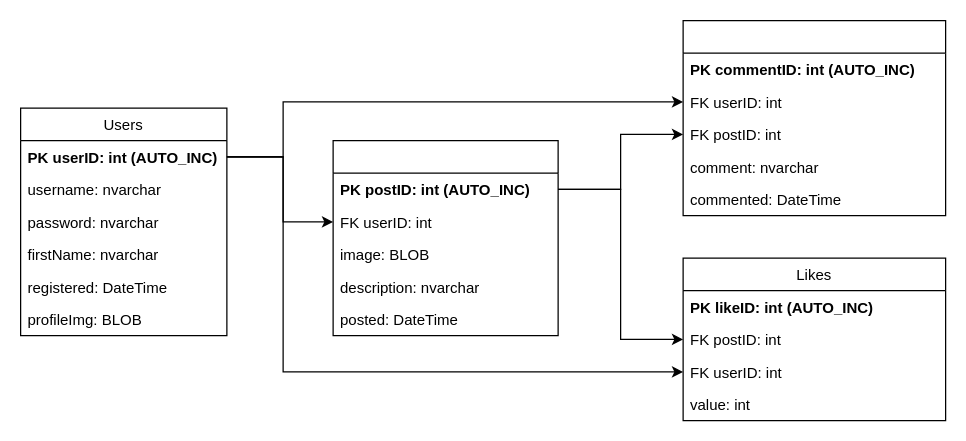
Image size: 966x441. Some labels were removed from this diagram. Here are the shapes that lost their labels. From the top down, the box of each, then its label:
(682, 19, 946, 216): Comments
(332, 139, 558, 336): Posts
